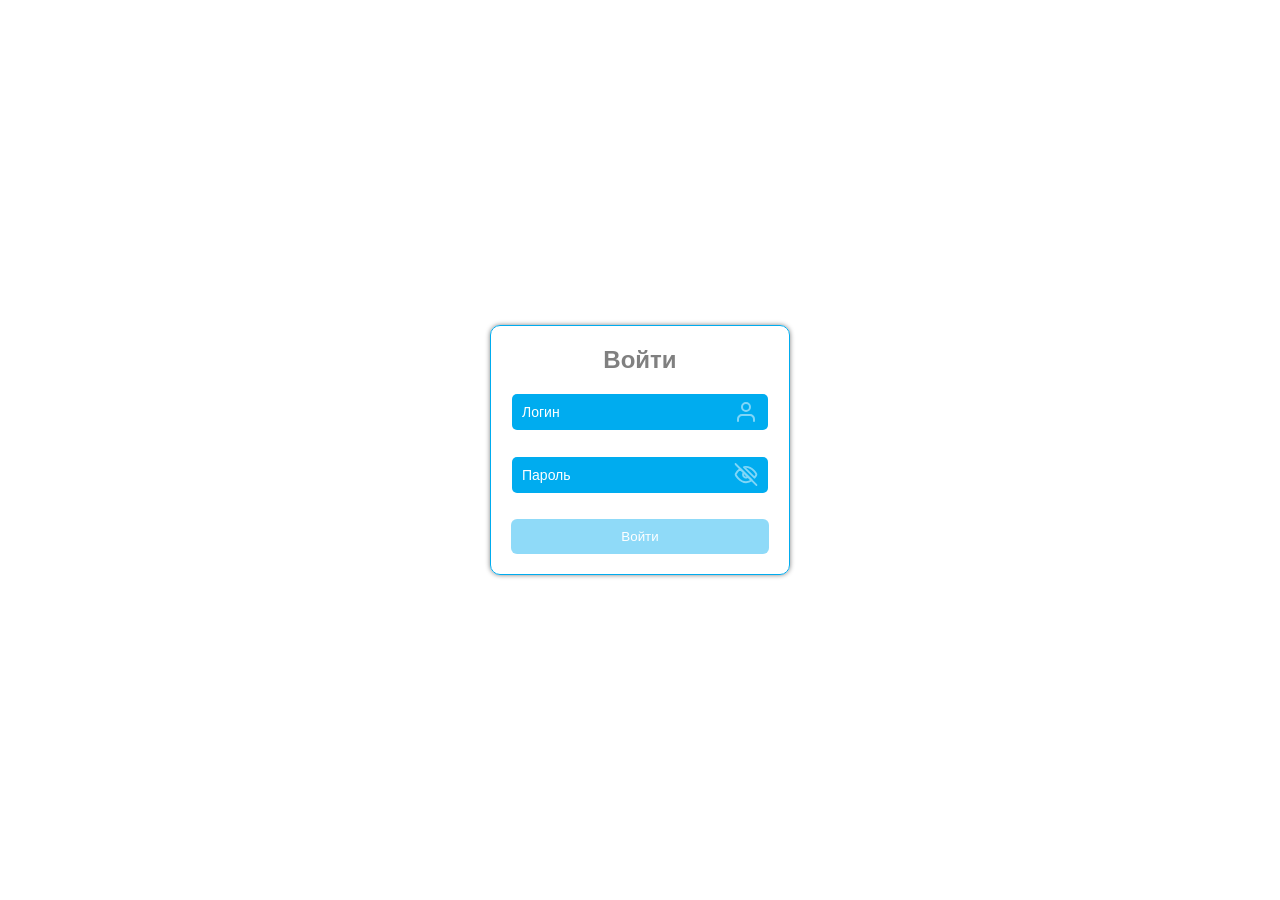
Test: auth › User may login
The width and height of the screenshot is (1280, 900).
Step 1. Type "john" into the field named "login" → (640, 413), box top-left (512, 395), bottom-right (768, 431)
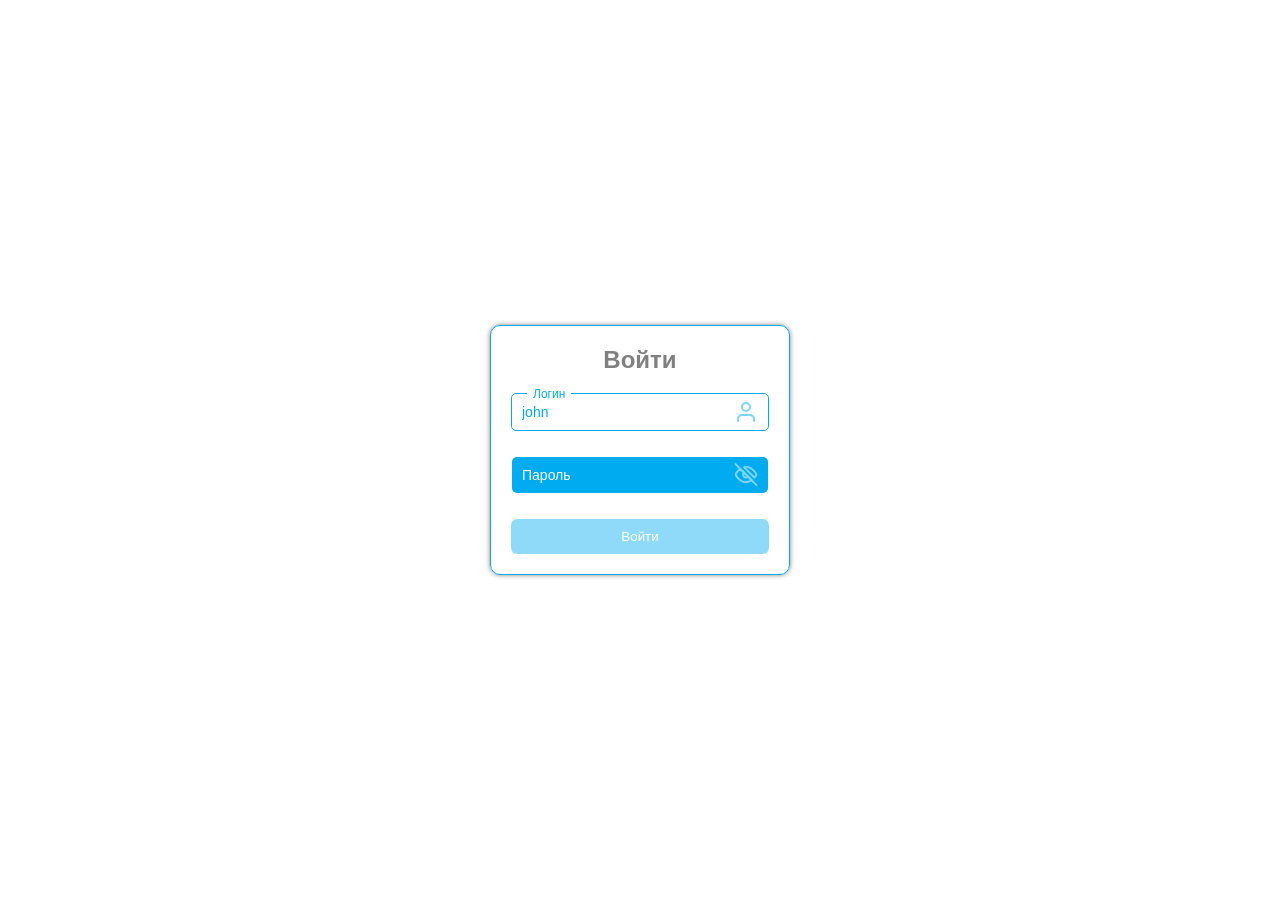
Step 2. Type "secret1" into the password field named "password" → (640, 476), box top-left (512, 458), bottom-right (768, 494)
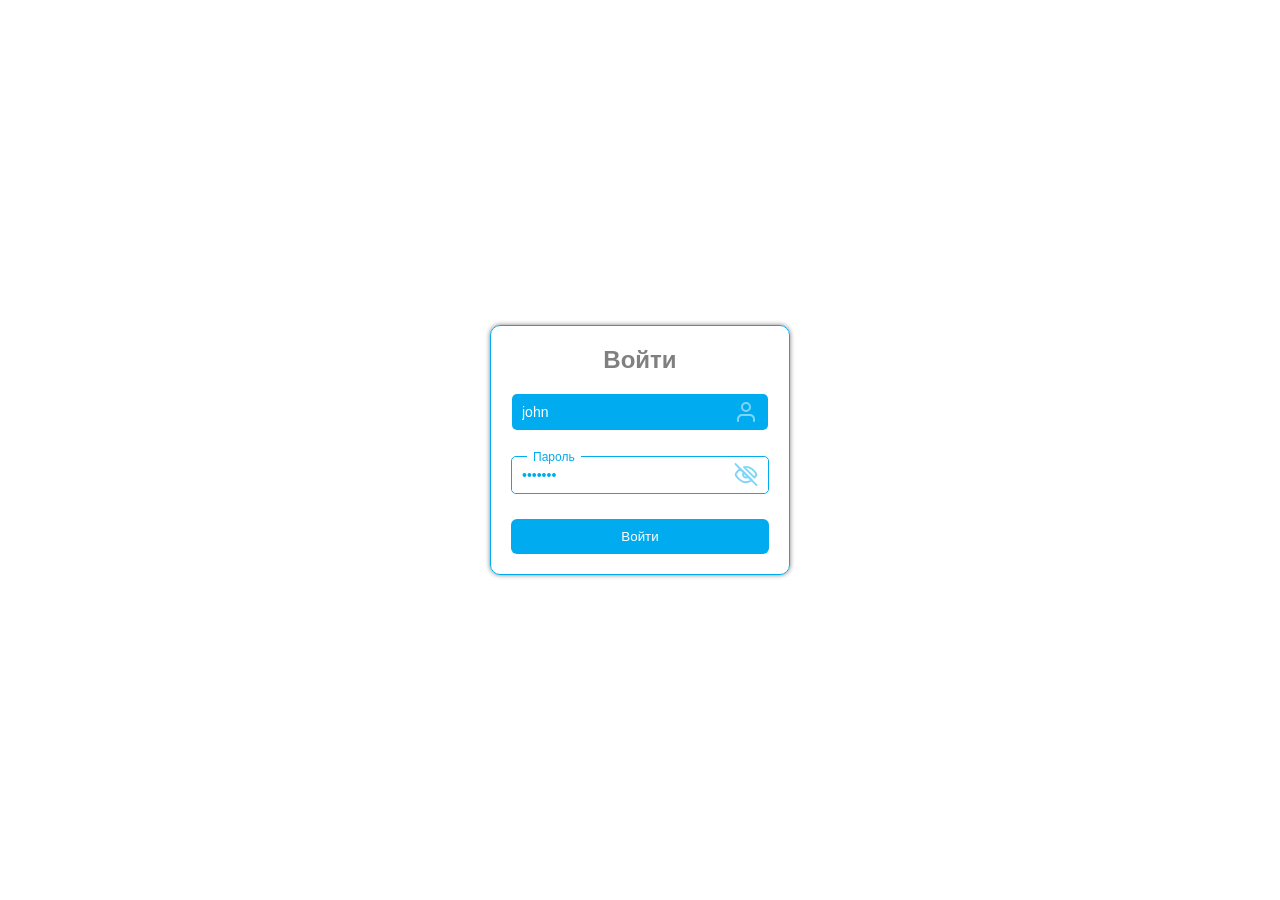
Step 3. Click the button "Войти" → (640, 538), box top-left (511, 520), bottom-right (769, 555)
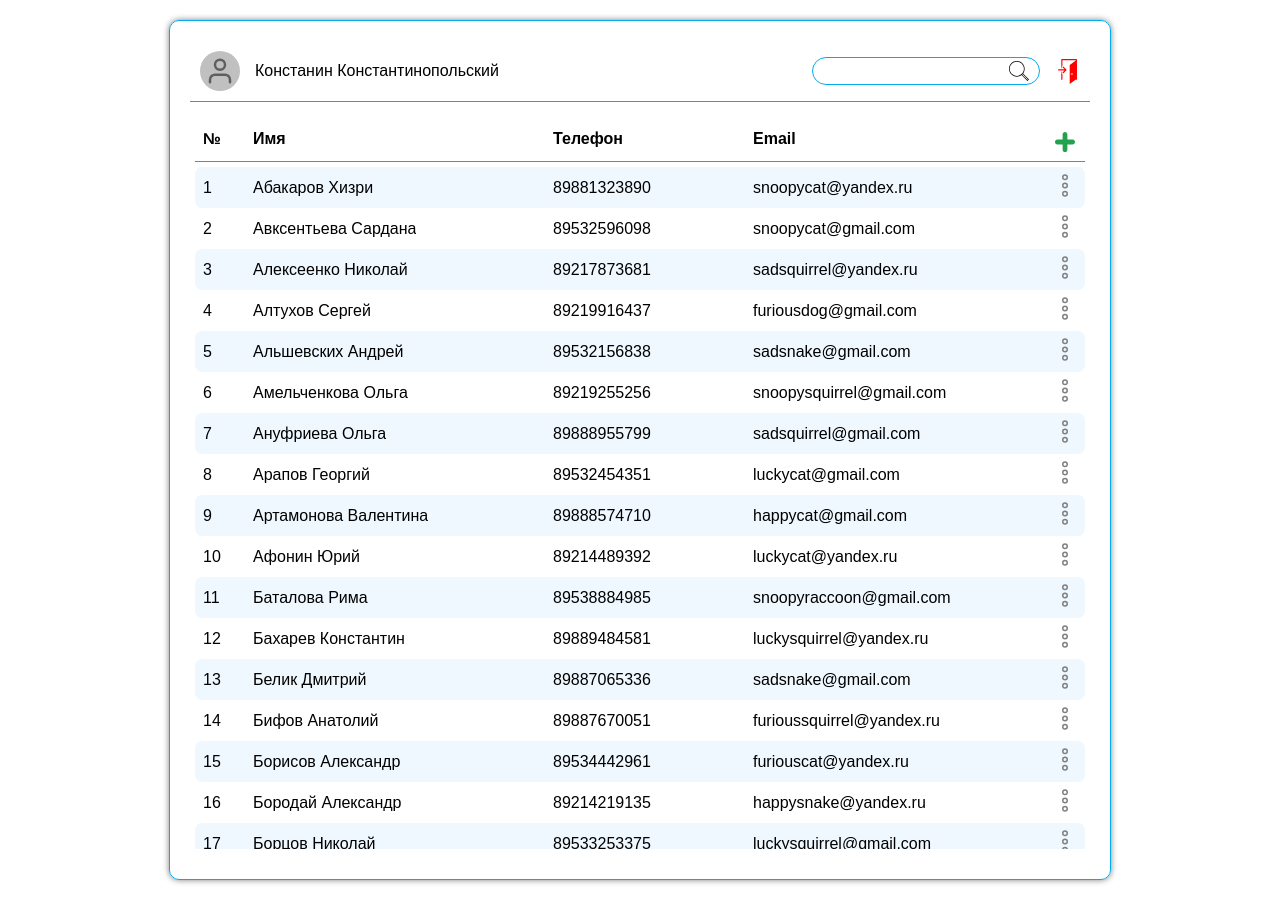
Now the list item "Имя" is shown, box top-left (245, 122), bottom-right (545, 162)
Now the list item "Телефон" is shown, box top-left (545, 122), bottom-right (745, 162)
Now the list item "Email" is shown, box top-left (745, 122), bottom-right (1045, 162)
